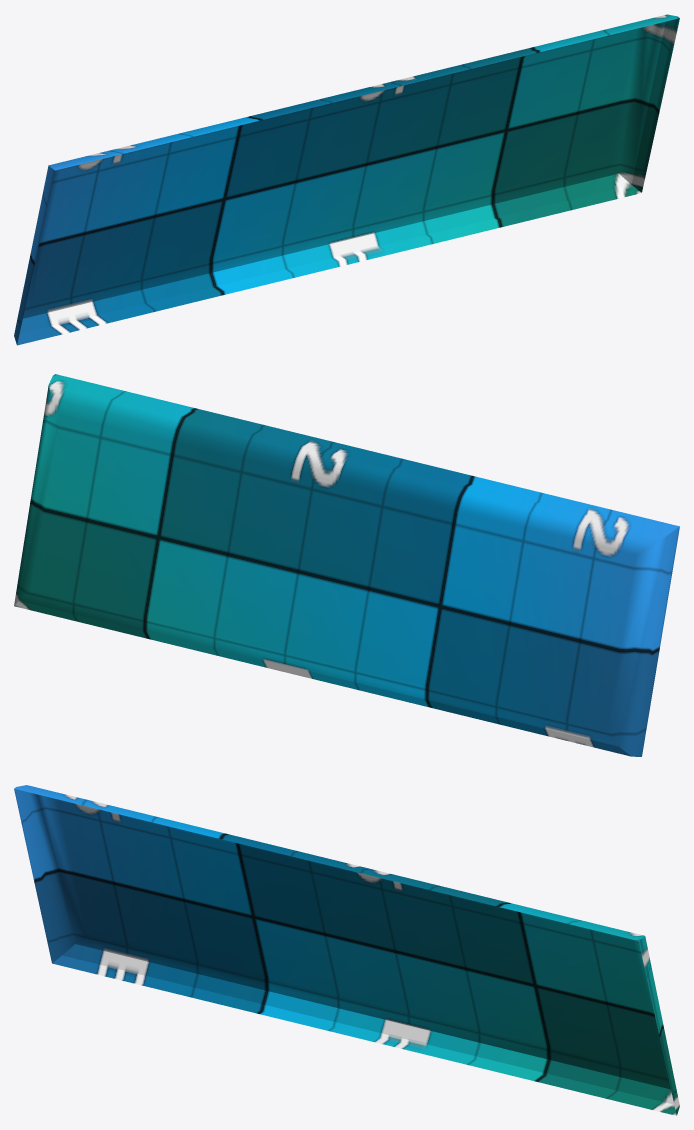
File: screen.fbx
3 views of the same model, one above another, from view 1: azimuth 30°, elevation 25°; view 2: azimuth 150°, elevation 25°; view 3: azimuth 330°, elevation 25° (orthographic).
Parts seen in each view (by area): view 1: DigocodeBoxScreen; view 2: DigocodeBoxScreen; view 3: DigocodeBoxScreen.
Boxes of the visible parts, <box> form: DigocodeBoxScreen: <box>14,14,679,345</box>; DigocodeBoxScreen: <box>14,374,679,756</box>; DigocodeBoxScreen: <box>14,785,679,1115</box>.
Bounding box in the file's own units: 62.93 × 19.51 × 8.49.
